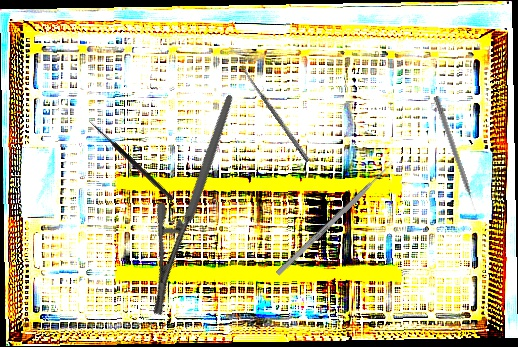Hook Surgical: (83, 119, 175, 206)
Needle Holder: (93, 94, 295, 319)
Pusher: (275, 159, 396, 277), (431, 95, 479, 214)
Surgical Spoon: (239, 64, 311, 163)
